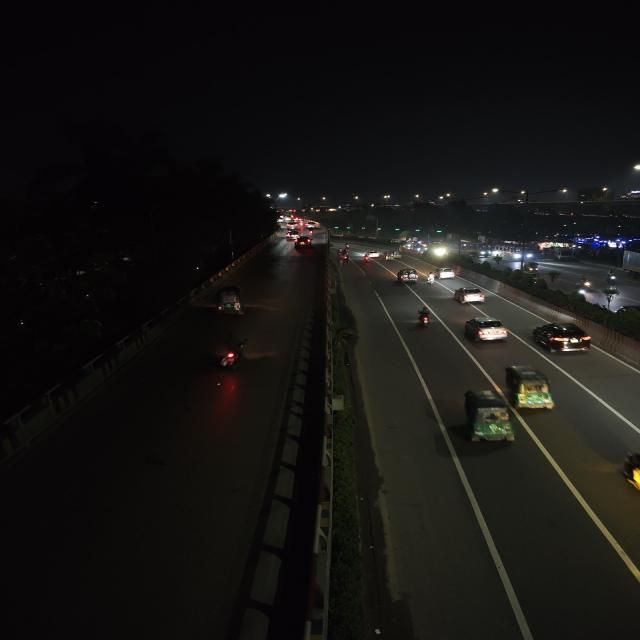bus: (502, 242, 538, 261), (461, 242, 492, 258)
car: (532, 320, 596, 354), (461, 314, 510, 344), (452, 284, 487, 306), (434, 266, 458, 280), (295, 236, 313, 248), (363, 251, 380, 261), (286, 229, 301, 240), (304, 222, 318, 230)
cng: (456, 388, 516, 448), (504, 363, 557, 412), (214, 285, 247, 317), (395, 266, 420, 284), (521, 260, 541, 274), (425, 270, 438, 285), (386, 250, 402, 261)
motorcycle: (216, 333, 249, 372), (412, 306, 435, 330), (603, 268, 620, 290), (575, 274, 595, 291), (338, 252, 350, 264), (342, 242, 352, 250)
truck: (551, 248, 576, 260)
